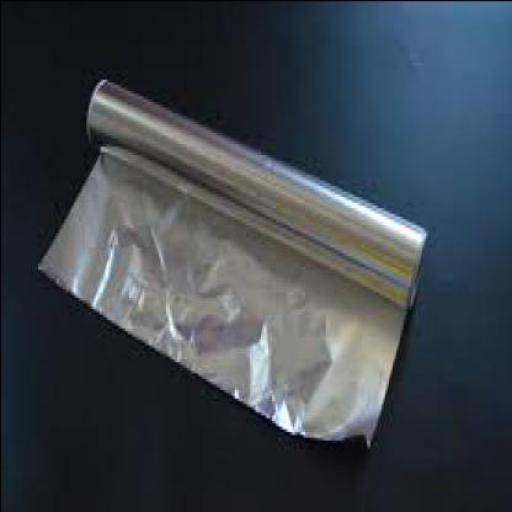metal: (37, 76, 428, 445)
